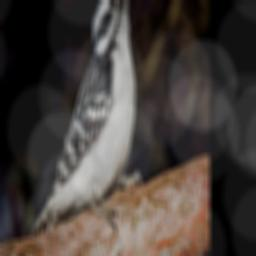Woodpecker: (31, 0, 145, 237)
